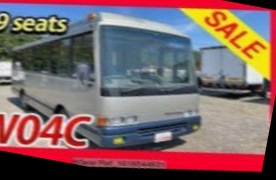bus: (0, 0, 229, 180)
